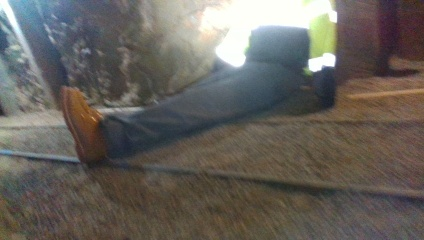manikin: (54, 2, 338, 171)
